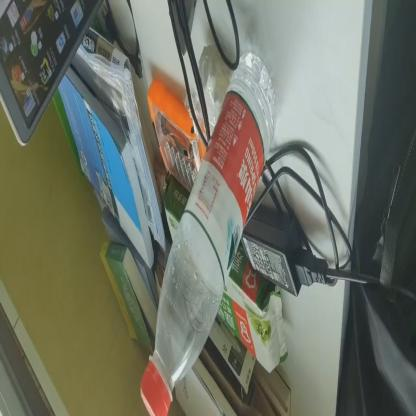Glass Bottle: (140, 48, 275, 416)
